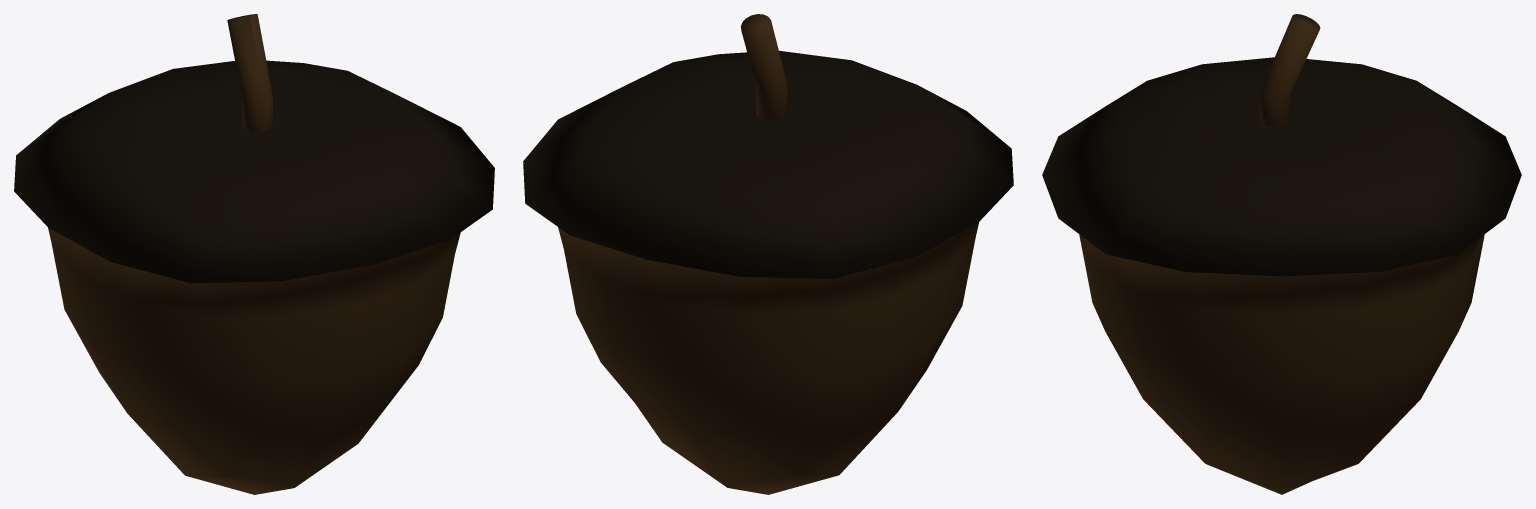
File: Acorn.fbx
The picture shows the model from 3 angles, left to right: view 1: azimuth 30°, elevation 25°; view 2: azimuth 150°, elevation 25°; view 3: azimuth 270°, elevation 25°; orthographic projection. The views are drawn at different scales.
Visible parts, largest first — view 1: Acorn; view 2: Acorn; view 3: Acorn.
Part boxes in pixels (x1,y1,x2,y2): Acorn: [14, 14, 494, 494]; Acorn: [523, 14, 1013, 494]; Acorn: [1042, 14, 1521, 494].
Size of the model in its own units: 18.31 by 20.13 by 18.31.
